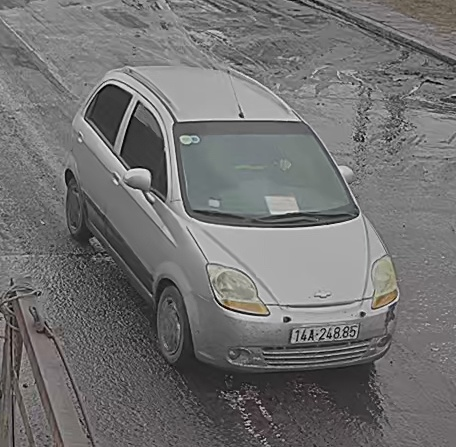vehicle plate: (287, 321, 366, 343)
